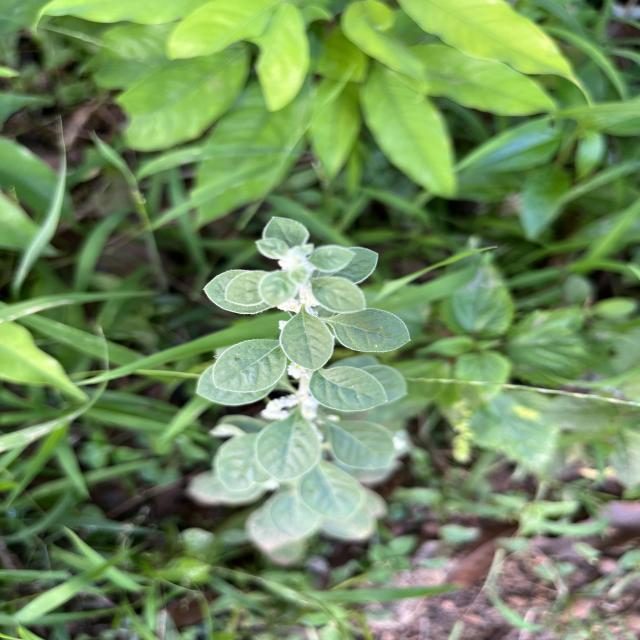Aerva lanata: (210, 336, 288, 394), (331, 307, 414, 354)
